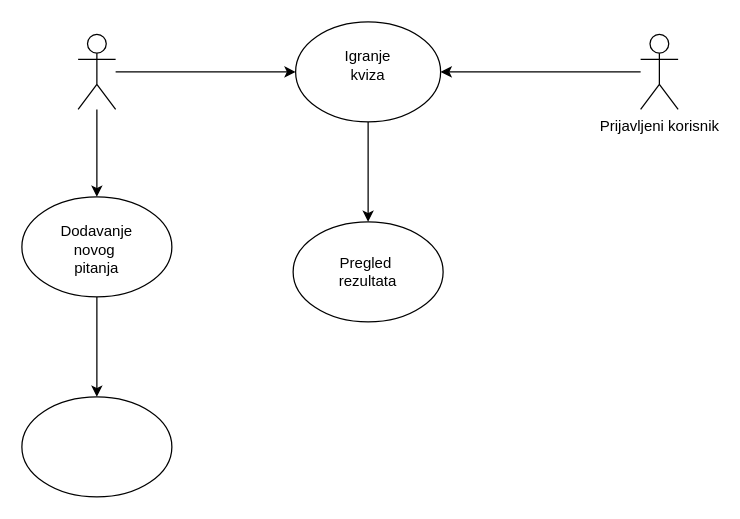
This 740x519 diagram has some shape labels left out. Here are the shapes that lost their labels. From the top down, the centre of each, then its label:
point (96, 71): Registrovani korisnik
point (96, 446): Izmena postojeceg piranja
